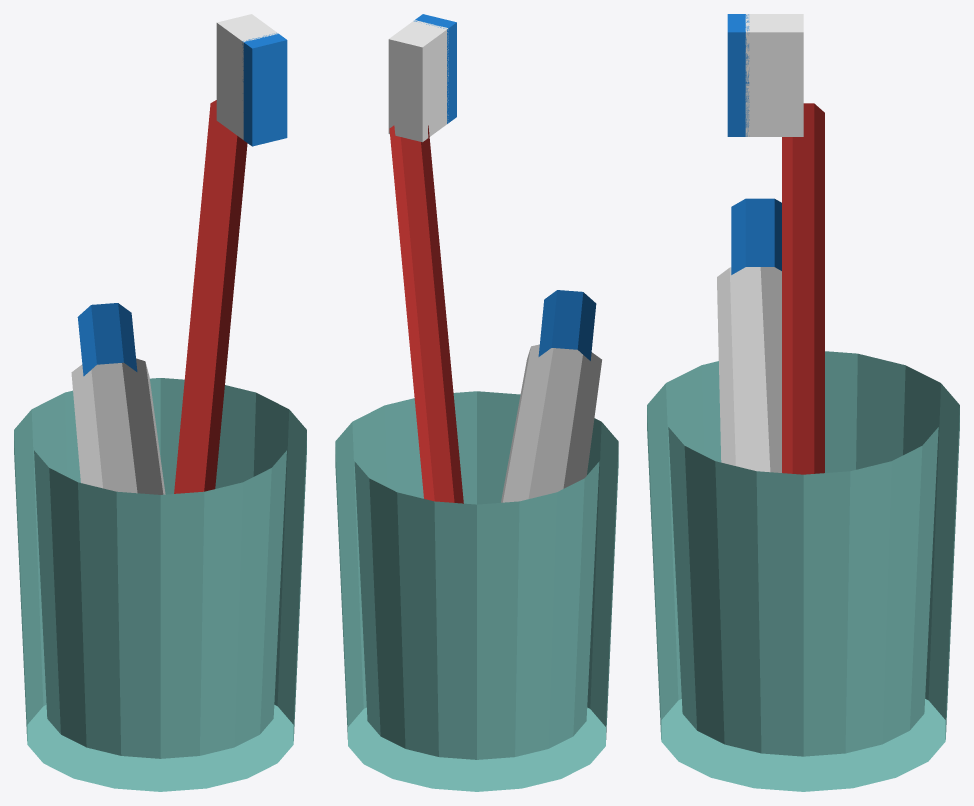
Rendered from tandborste.glb.
3 views of the same model, side by side, from view 1: azimuth 30°, elevation 25°; view 2: azimuth 150°, elevation 25°; view 3: azimuth 270°, elevation 25° (orthographic). The views are drawn at different scales.
Parts seen in each view (by area): view 1: tandborste; view 2: tandborste; view 3: tandborste.
Boxes of the visible parts, <box> form: tandborste: <box>14,14,306,791</box>; tandborste: <box>335,14,618,791</box>; tandborste: <box>647,14,959,791</box>.
Size of the model in its own units: 0.22 by 0.57 by 0.2166.
